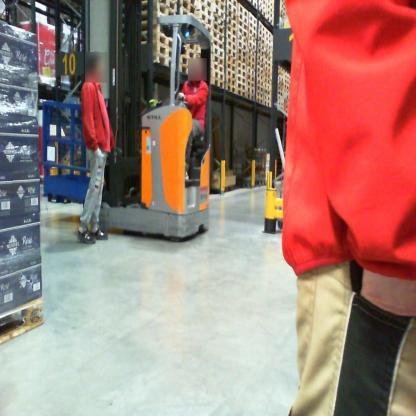pallets: (139, 0, 278, 112), (0, 282, 68, 368)
